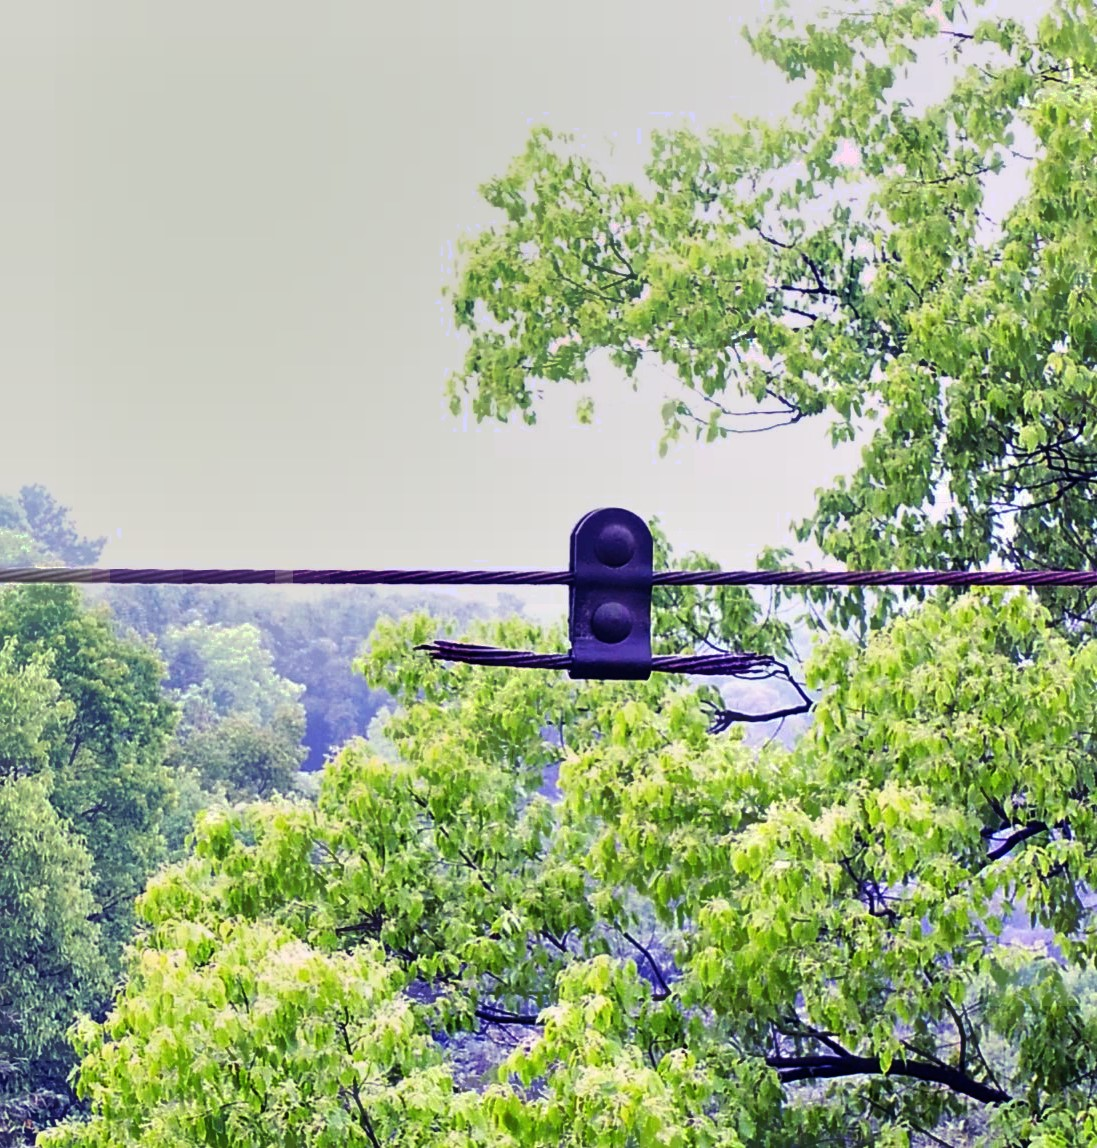Damage of shockproof hammer: (409, 502, 788, 699)
